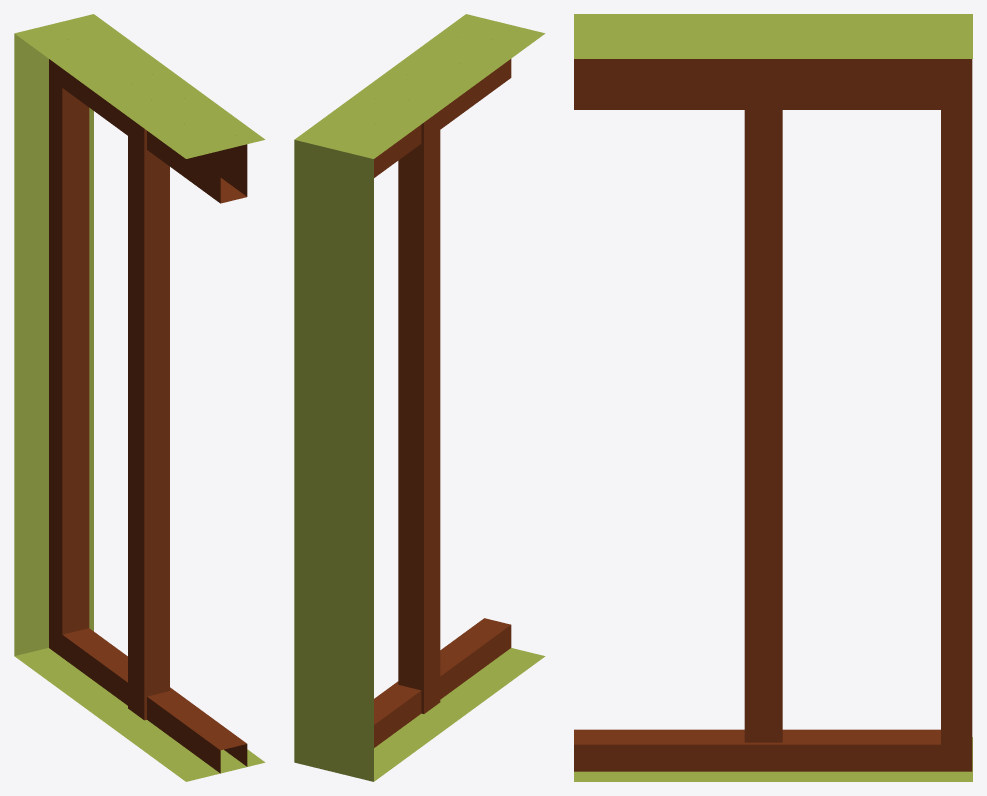
The model's file is ModuleSc_A_Win_Frame_1.FBX.
3 renders of one model, left to right at view 1: azimuth 30°, elevation 25°; view 2: azimuth 150°, elevation 25°; view 3: azimuth 270°, elevation 25°, orthographic. The views are drawn at different scales.
Parts seen in each view (by area): view 1: ModuleSc_A_wallwin_side_01, ModuleSc_A_frame_win_05, ModuleSc_A_wallwin_side_06, ModuleSc_A_frame_win_09, ModuleSc_A_frame_win_08, ModuleSc_A_frame_win_06, ModuleSc_A_wallwin_side_02, ModuleSc_A_frame_win_04; view 2: ModuleSc_A_wallwin_side_01, ModuleSc_A_wallwin_side_06, ModuleSc_A_frame_win_09, ModuleSc_A_frame_win_08, ModuleSc_A_frame_win_06, ModuleSc_A_wallwin_side_02, ModuleSc_A_frame_win_04; view 3: ModuleSc_A_frame_win_05, ModuleSc_A_frame_win_04, ModuleSc_A_wallwin_side_06, ModuleSc_A_frame_win_06, ModuleSc_A_frame_win_09, ModuleSc_A_frame_win_08, ModuleSc_A_wallwin_side_02.
Part boxes in pixels (box(x1,y1,x2,y2)): ModuleSc_A_wallwin_side_01: box(14, 33, 93, 655); ModuleSc_A_frame_win_05: box(49, 59, 89, 657); ModuleSc_A_wallwin_side_06: box(14, 14, 265, 158); ModuleSc_A_frame_win_09: box(128, 397, 169, 720); ModuleSc_A_frame_win_08: box(128, 117, 169, 408); ModuleSc_A_frame_win_06: box(62, 628, 247, 773); ModuleSc_A_wallwin_side_02: box(14, 648, 265, 781); ModuleSc_A_frame_win_04: box(62, 69, 247, 203); ModuleSc_A_wallwin_side_01: box(294, 140, 373, 781); ModuleSc_A_wallwin_side_06: box(294, 14, 545, 158); ModuleSc_A_frame_win_09: box(398, 391, 440, 713); ModuleSc_A_frame_win_08: box(398, 111, 440, 402); ModuleSc_A_frame_win_06: box(374, 618, 511, 747); ModuleSc_A_wallwin_side_02: box(374, 648, 545, 781); ModuleSc_A_frame_win_04: box(374, 59, 511, 177); ModuleSc_A_frame_win_05: box(941, 59, 972, 771); ModuleSc_A_frame_win_04: box(574, 59, 940, 109); ModuleSc_A_wallwin_side_06: box(574, 14, 972, 58); ModuleSc_A_frame_win_06: box(574, 729, 941, 771); ModuleSc_A_frame_win_09: box(744, 408, 782, 742); ModuleSc_A_frame_win_08: box(744, 110, 782, 407); ModuleSc_A_wallwin_side_02: box(574, 737, 972, 781).
Size of the model in its own units: 10.53 by 78.74 by 39.37.
